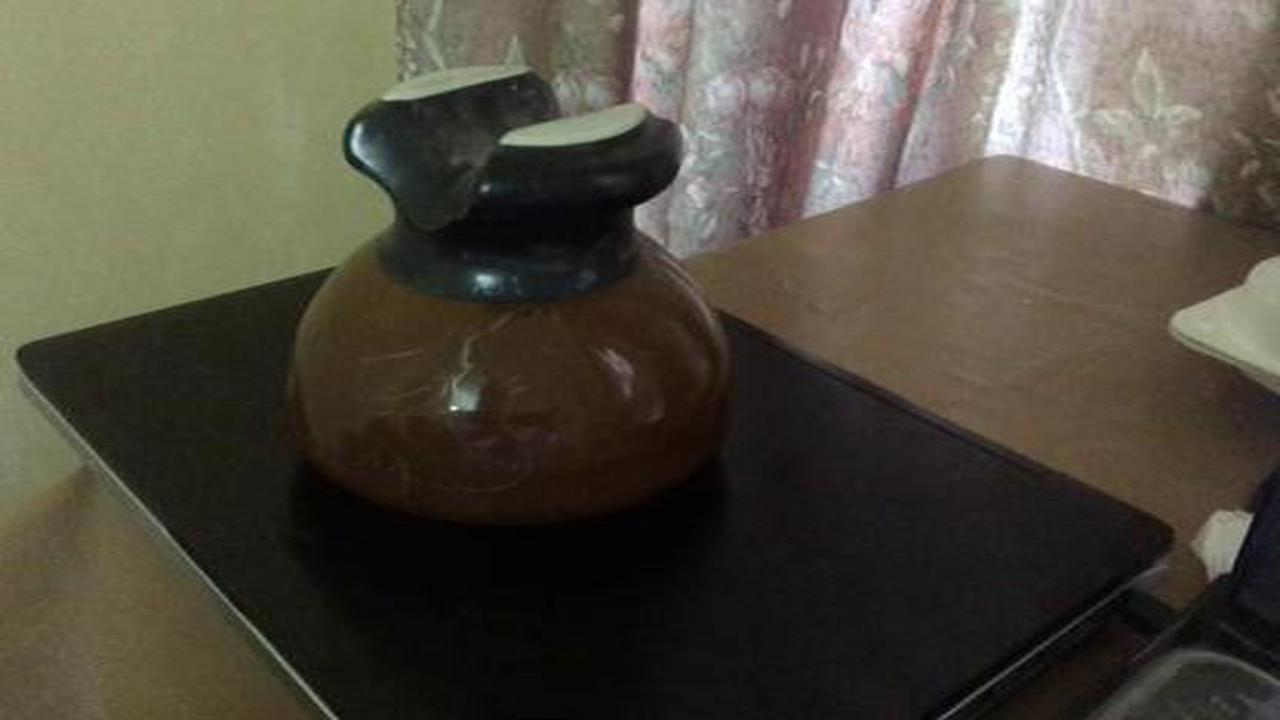insulator_pin: (277, 59, 764, 537)
